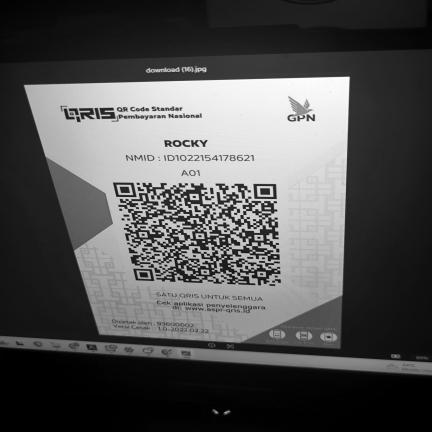Qris-Positioning: (25, 77, 350, 349)
